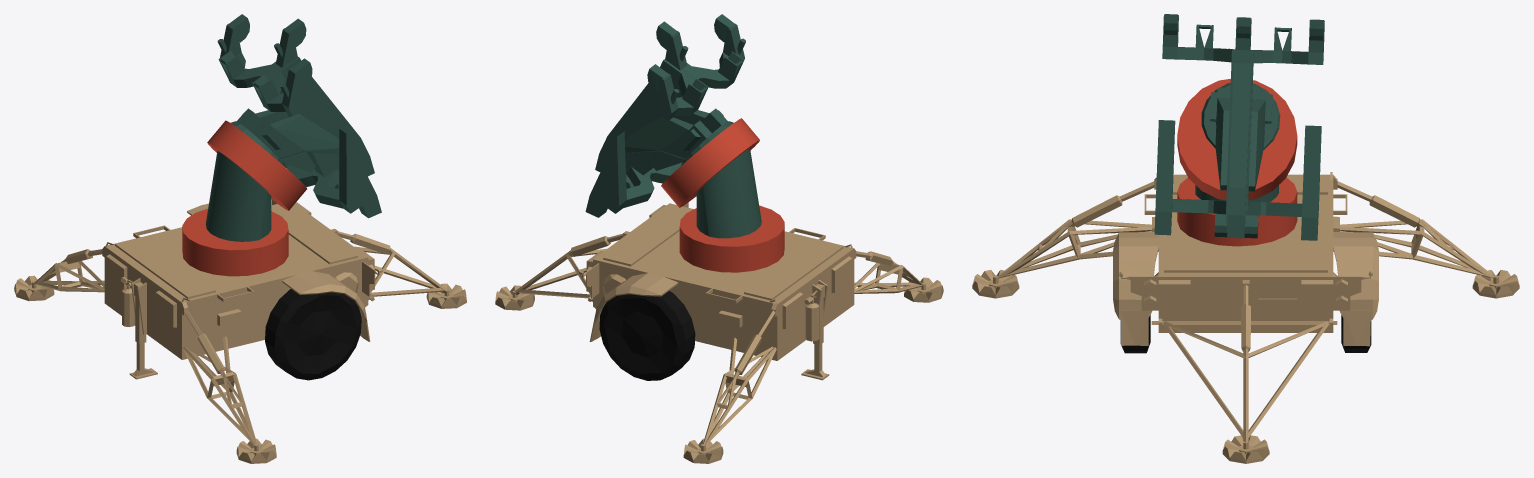
Rendered from RocketLuncher-2.fbx.
The picture shows the model from 3 angles, left to right: view 1: azimuth 30°, elevation 25°; view 2: azimuth 150°, elevation 25°; view 3: azimuth 270°, elevation 25°; orthographic projection. The views are drawn at different scales.
Visible parts, largest first — view 1: pCylinder4; view 2: pCylinder4; view 3: pCylinder4.
Part boxes in pixels (bbox=[...]): pCylinder4: bbox=[14, 14, 466, 463]; pCylinder4: bbox=[495, 14, 943, 463]; pCylinder4: bbox=[972, 14, 1519, 463].
Size of the model in its own units: 158 by 142 by 197.
